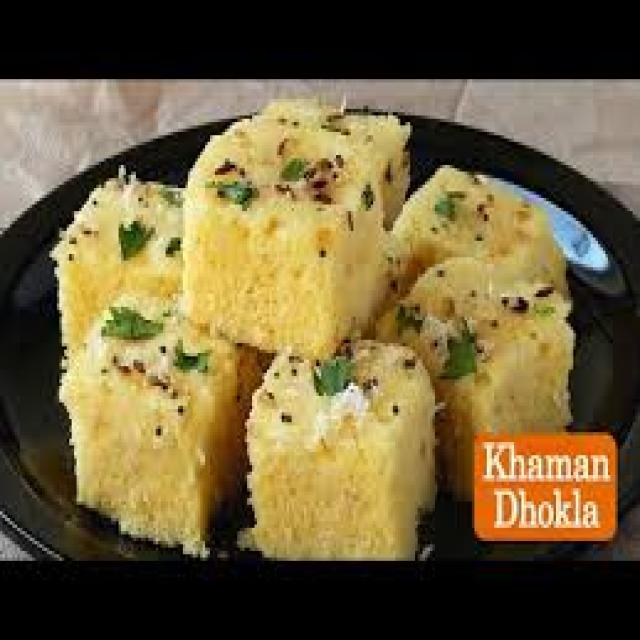DHOKLA: (184, 94, 412, 359), (54, 297, 265, 560), (375, 256, 577, 501), (249, 339, 437, 563), (42, 171, 190, 387), (386, 152, 578, 311)
